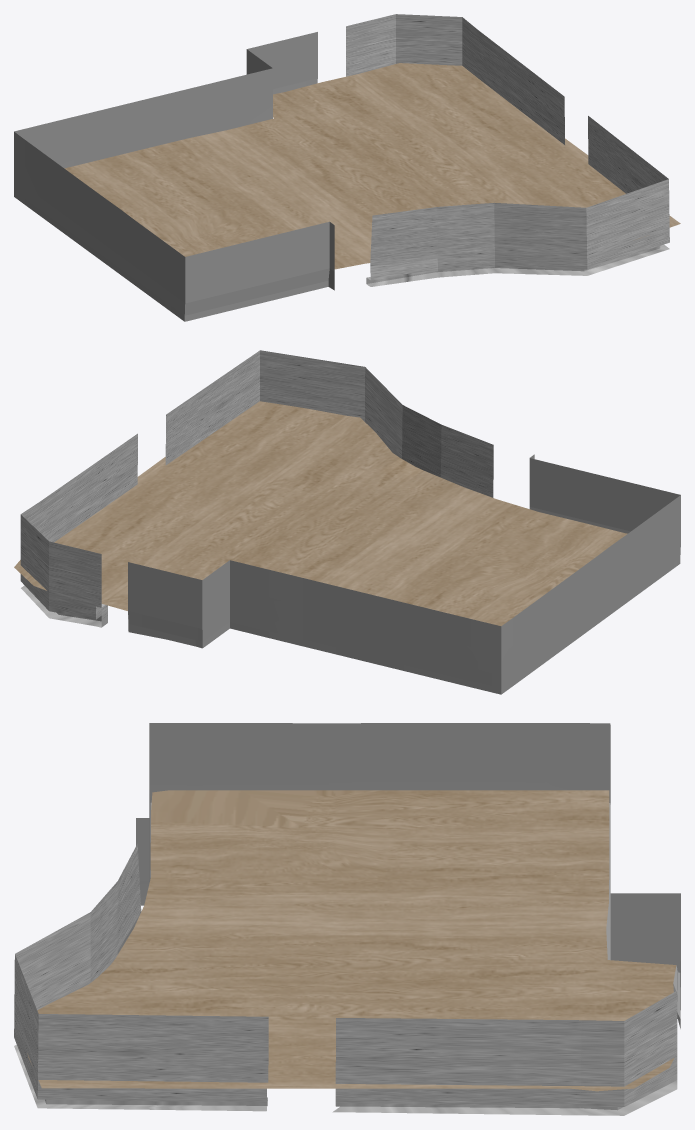
The model's file is house_wall.fbx.
The picture shows the model from 3 angles, top to bottom: view 1: azimuth 30°, elevation 25°; view 2: azimuth 150°, elevation 25°; view 3: azimuth 270°, elevation 25°; orthographic projection. The views are drawn at different scales.
Visible parts, largest first — view 1: namas:a_site; view 2: namas:a_site; view 3: namas:a_site.
Boxes of the visible parts, x1,y1,x2,y2 form: namas:a_site: (14, 14, 680, 321); namas:a_site: (14, 350, 680, 694); namas:a_site: (14, 723, 680, 1115).
Size of the model in its own units: 2691 by 410 by 2506.
3 materials, 2 textured.
